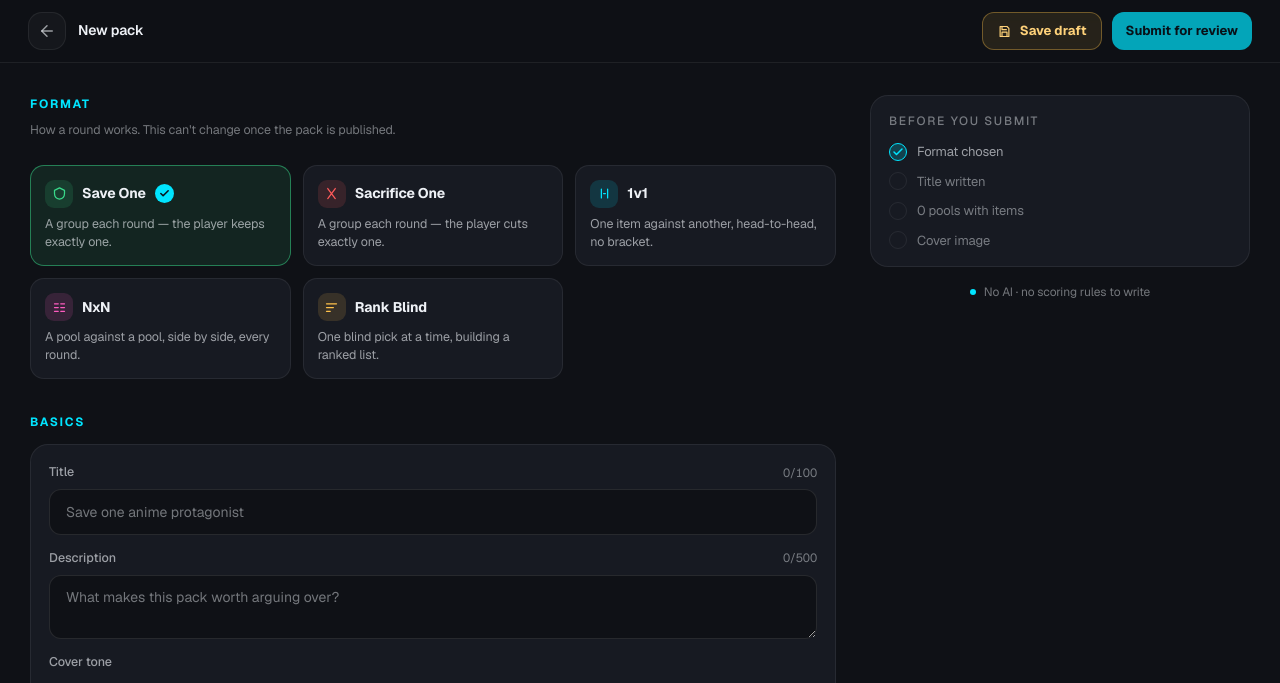
Test: CreatePackForm › rejects a pool with no items
Step 1. Type "Title" into the field labelled "Title" → [433, 512], box [49,489,817,535]
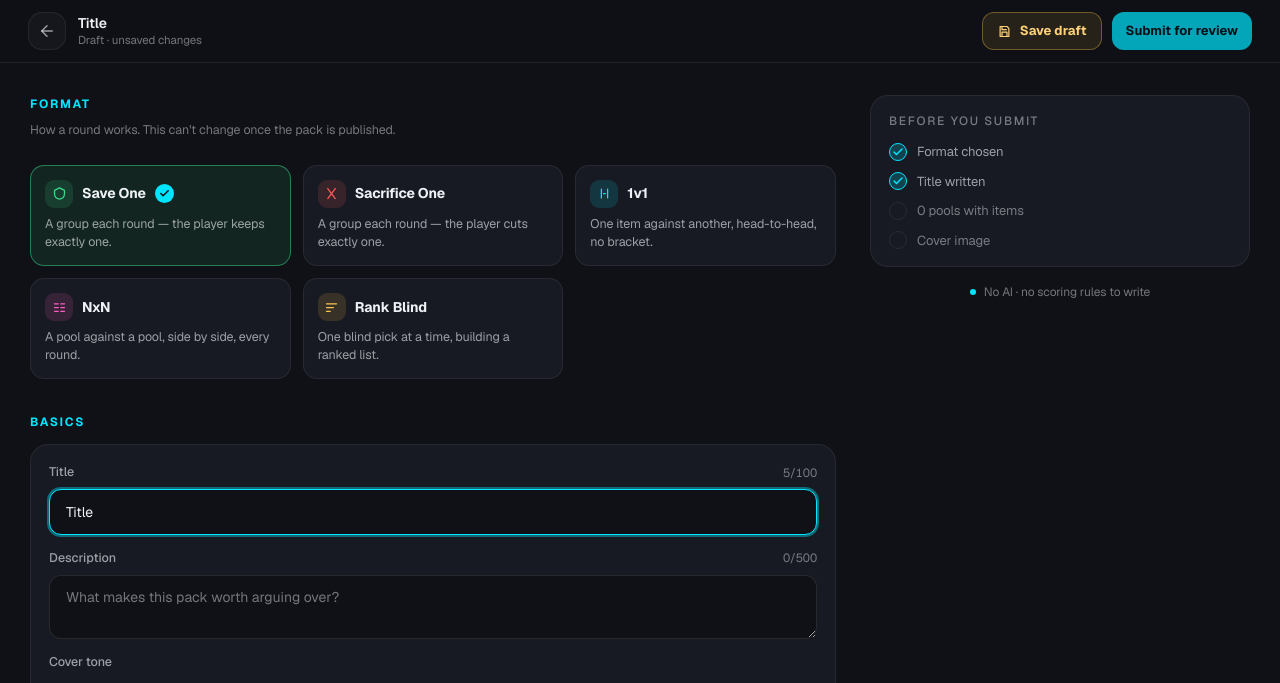
Step 2. Type "Desc" into the text box labelled "Description" → [433, 607], box [49,575,817,639]
(page scrolled)
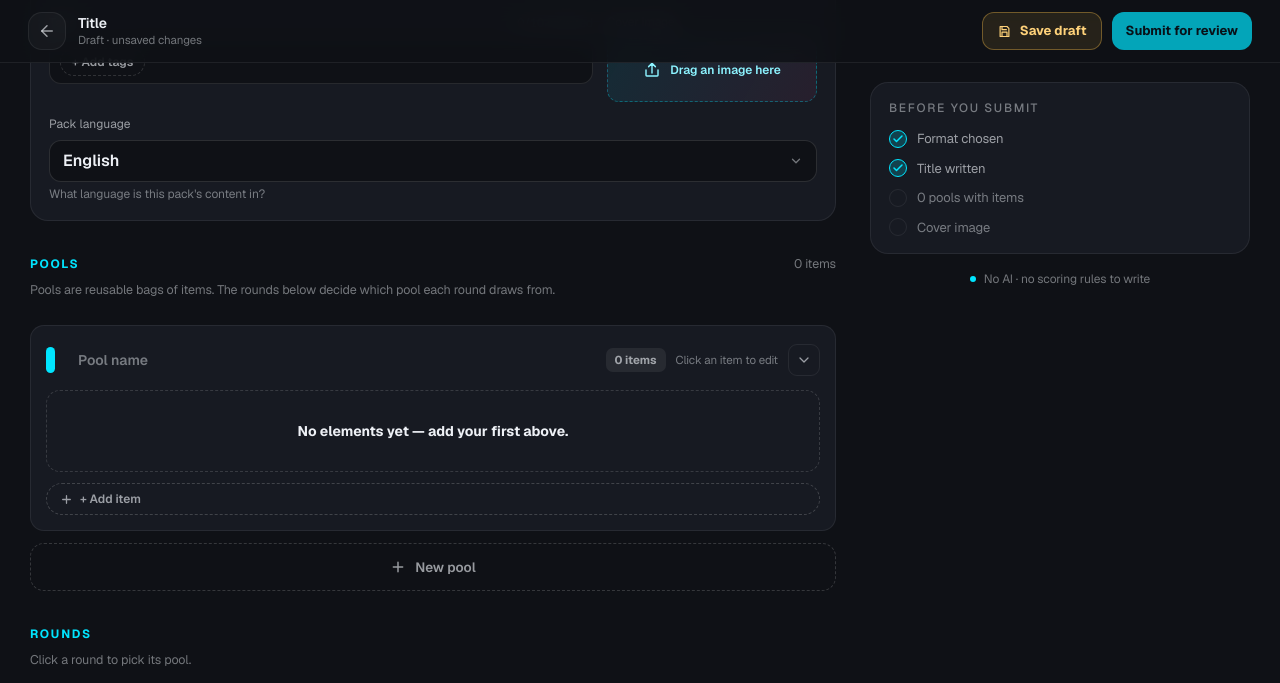
Step 3. Type "Round 1" into the field named "Pool 1 name" → [330, 360], box [65,341,596,379]
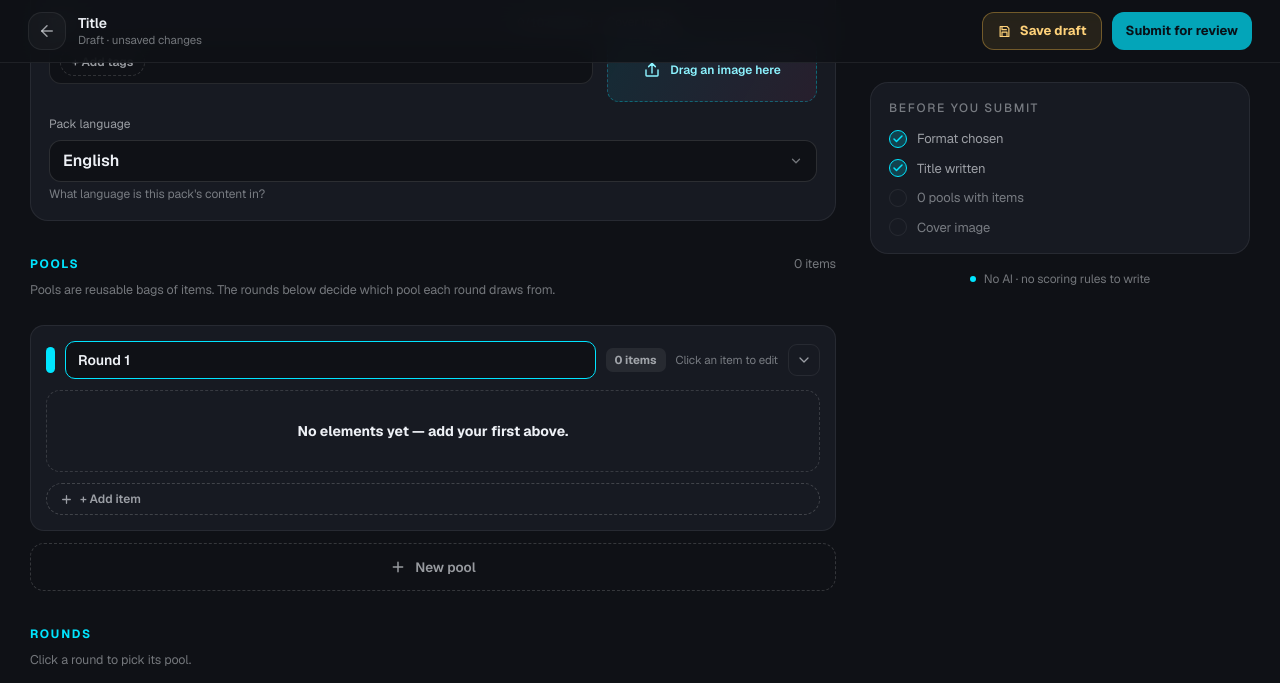
Step 4. Click the button "Submit for review" → [1182, 31], box [1112,12,1252,50]
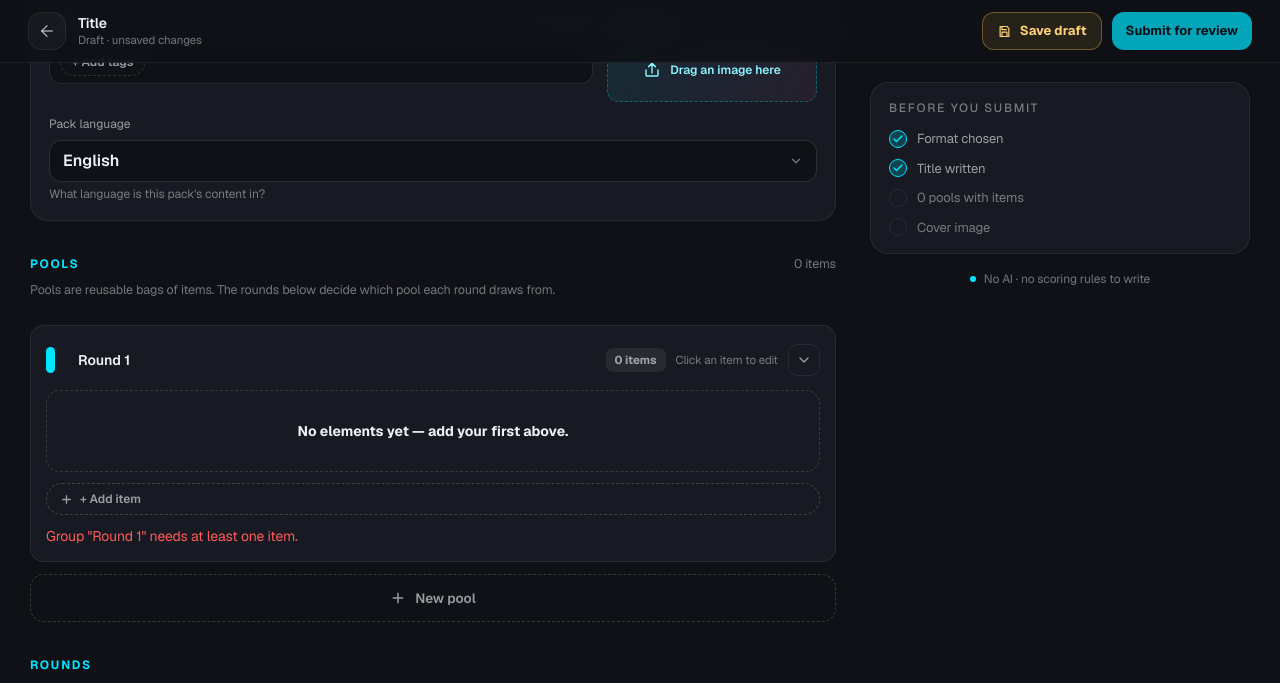
Now the text "Group \"Round 1\" needs at least one item." is shown, box [46,527,298,545]
